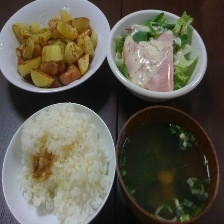rice: (14, 104, 111, 223)
